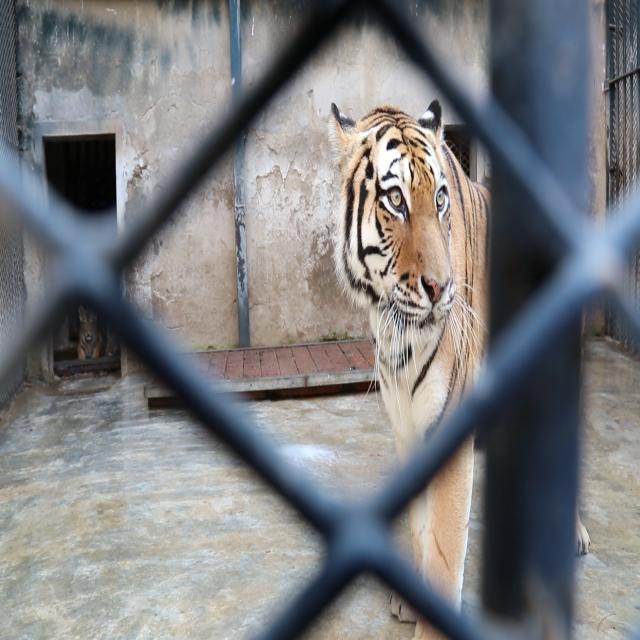Tiger: (328, 65, 607, 640)
